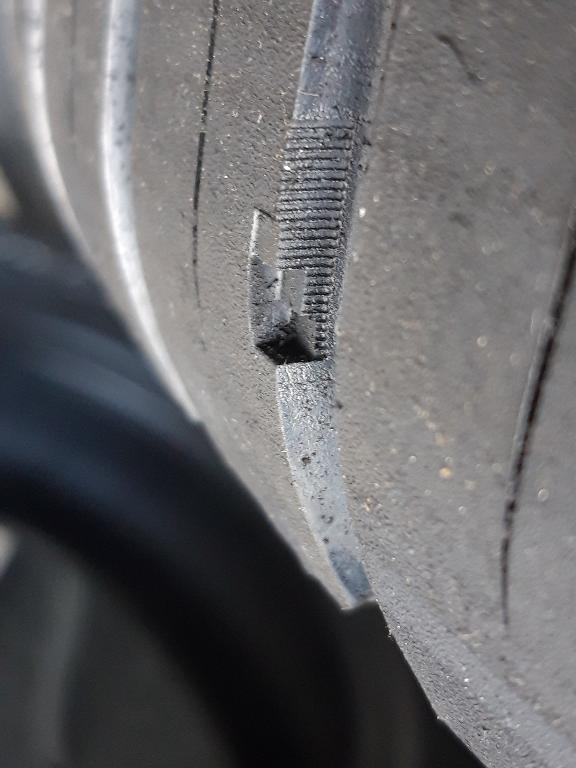temoin:50: (240, 200, 352, 376)
